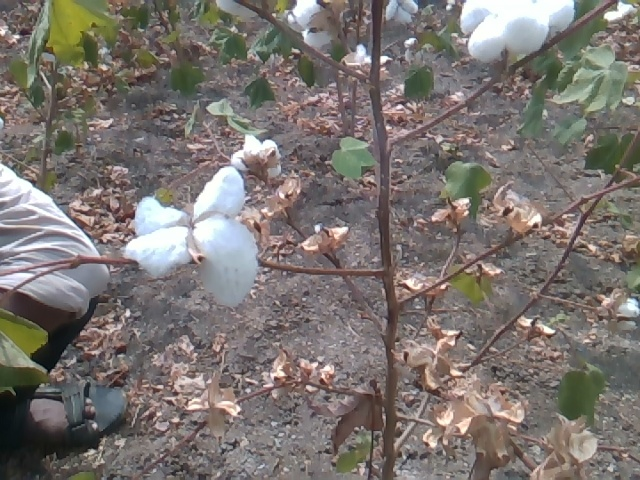cotton: (128, 170, 258, 299), (456, 1, 578, 72), (224, 128, 284, 184), (285, 1, 349, 51), (382, 1, 427, 32)
